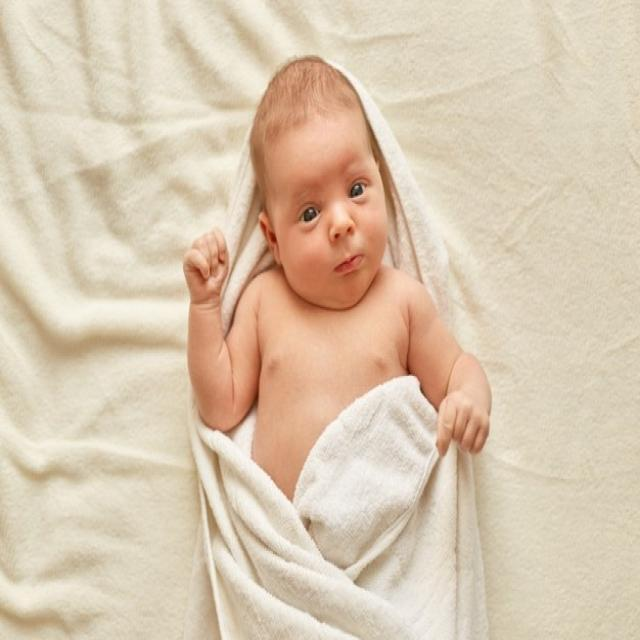non-dog: (185, 52, 497, 497)
